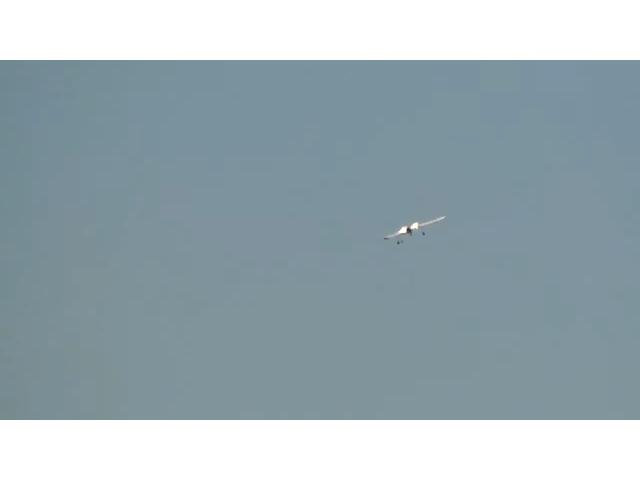Anti-Drone: (384, 213, 448, 239)
